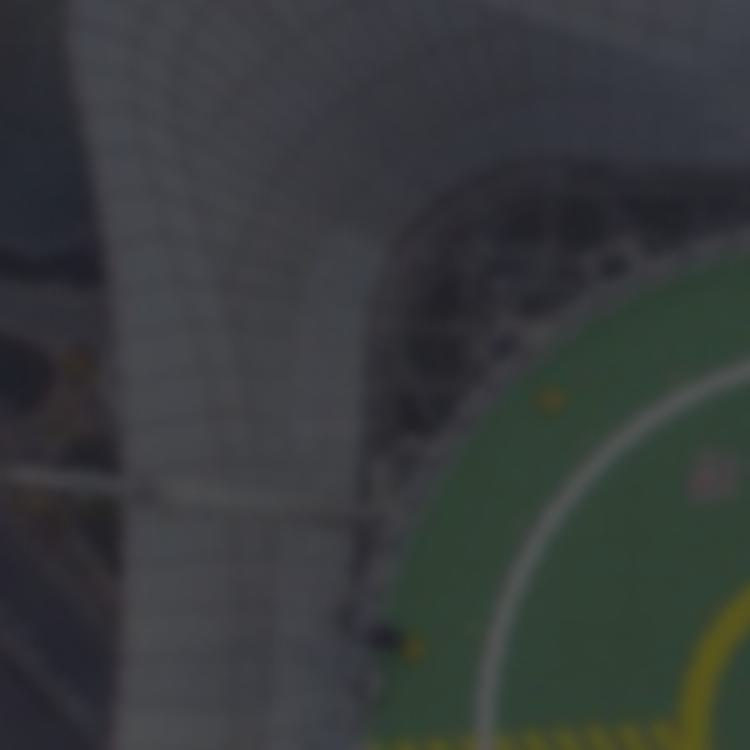Apron: (652, 561, 750, 750)
